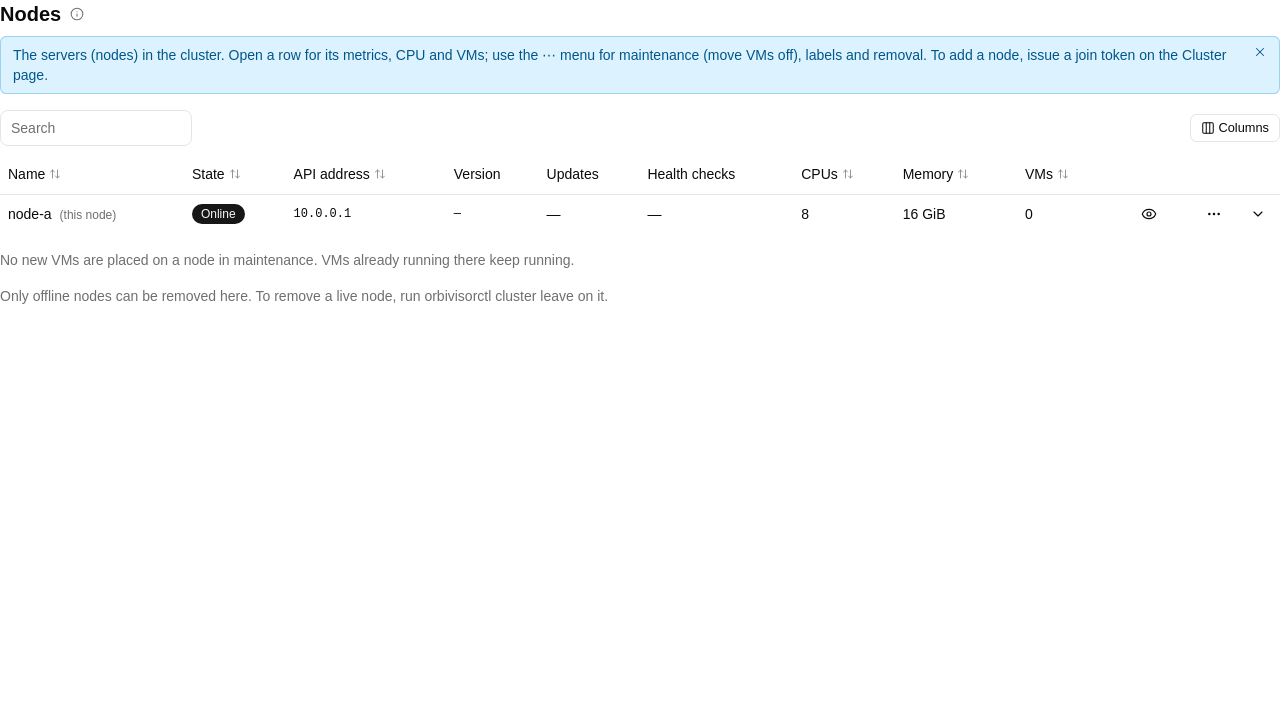
Test: opens the interfaces of a node from its menu
The image size is (1280, 720).
Click the button named "Actions for node-a". click: (1214, 214)
box: [1200,200,1228,228]
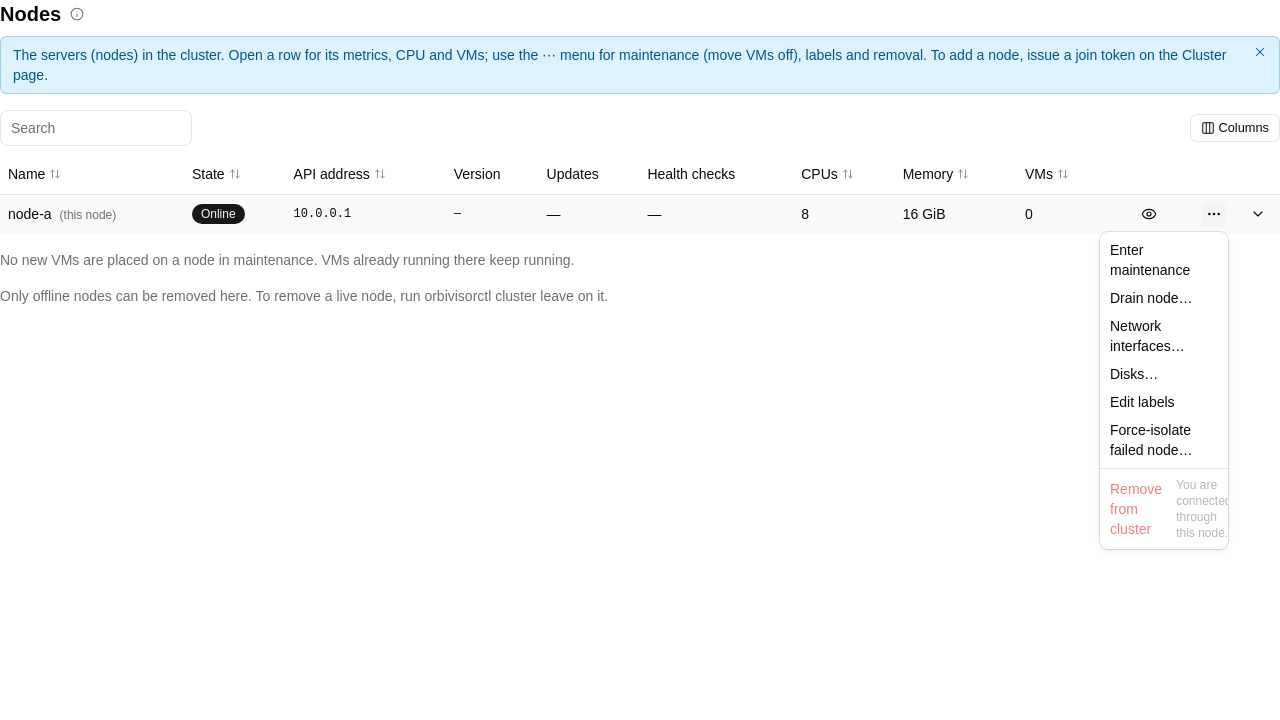
Click the menu item "Network interfaces…". click: (1147, 336)
box: [1110,318,1185,354]
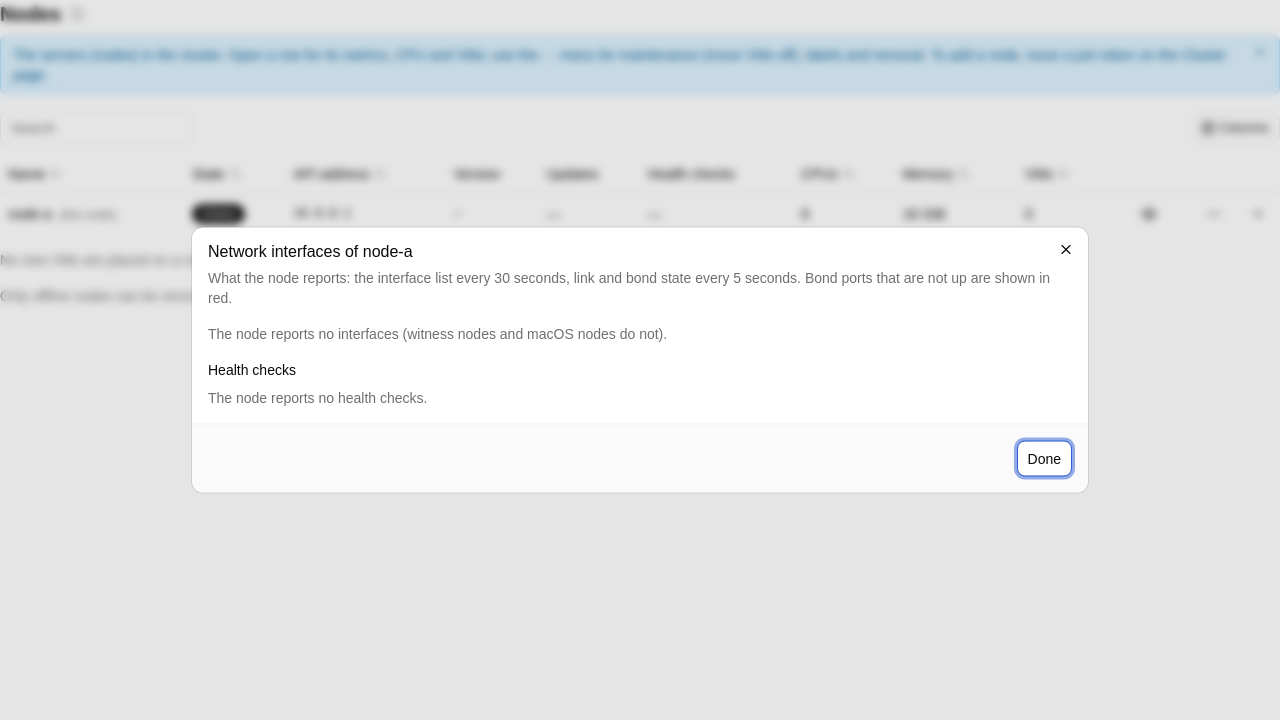
Expected: the text "The node reports no interfaces (witness nodes and macOS nodes do not)." is shown, [208,326,667,342]
Expected: the text "The node reports no health checks." is shown, [208,390,428,406]
